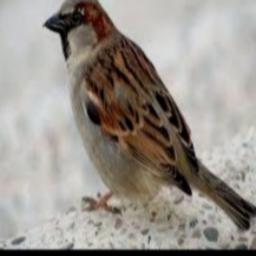Sparrow: (42, 0, 256, 230)
